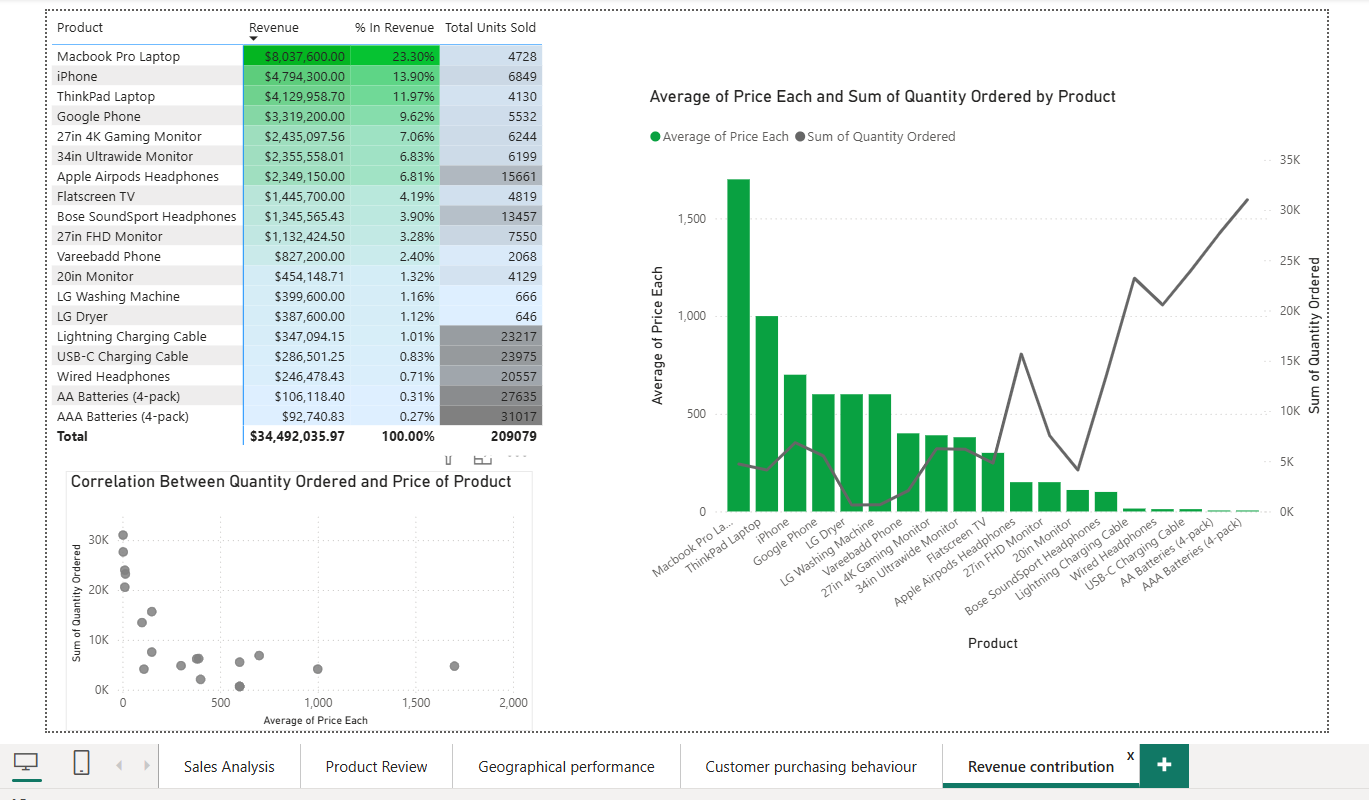

This screenshot's page, from the dashboard's own definition file:
{"tool":"powerbi","page":{"name":"Revenue contribution","canvas":[1280,720],"ordinal":4},"visuals":[{"type":"scatterChart","title":"Correlation Between Quantity Ordered and Price of Product","fields":{"X":["Avg(Sales Data For Analysis.Price Each)"],"Y":["Sum(Sales Data For Analysis.Quantity Ordered)"],"Category":["Sales Data For Analysis.Product"]},"box":[18.8,460,467.5,260],"z":0},{"type":"pivotTable","fields":{"Rows":["Sales Data For Analysis.Product"],"Values":["Sum(Sales Data For Analysis.Sales)","Divide(Sum(Sales Data For Analysis.Sales), ScopedEval(Sum(Sales Data For Analysis.Sales), []))","Sum(Sales Data For Analysis.Quantity Ordered)"]},"box":[0,0,505,445],"z":1},{"type":"lineClusteredColumnComboChart","fields":{"Category":["Sales Data For Analysis.Product"],"Y":["Avg(Sales Data For Analysis.Price Each)"],"Y2":["Sum(Sales Data For Analysis.Quantity Ordered)"]},"box":[597.5,75,682.5,570],"z":2}]}

Visuals, with their boxes on the page's 1280x720 design canvas (x1, y1, x2, y2). These are canvas units, not pixel positions in the 1369x800 screenshot, which may show the page scaled, cropped or inside an application window:
"Correlation Between Quantity Ordered and Price of Product" scatterChart: x1=19, y1=460, x2=486, y2=720
pivotTable - Sales Data For Analysis.Product x Sum(Sales Data For Analysis.Sales): x1=0, y1=0, x2=505, y2=445
lineClusteredColumnComboChart - Sales Data For Analysis.Product x Avg(Sales Data For Analysis.Price Each): x1=598, y1=75, x2=1280, y2=645
